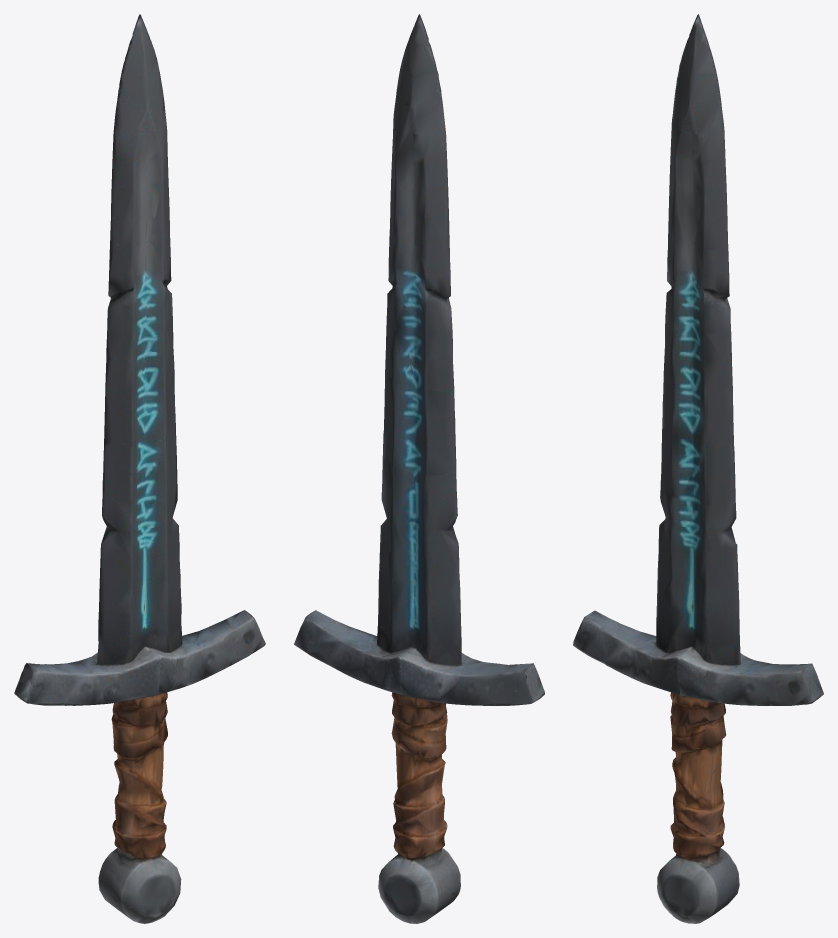
File: runic_sword.glb
3 renders of one model, left to right at view 1: azimuth 30°, elevation 25°; view 2: azimuth 150°, elevation 25°; view 3: azimuth 330°, elevation 25°, orthographic.
Bounding box in the file's own units: 0.5576 × 2 × 0.164.
Materials: 1 (1 with a texture image).
